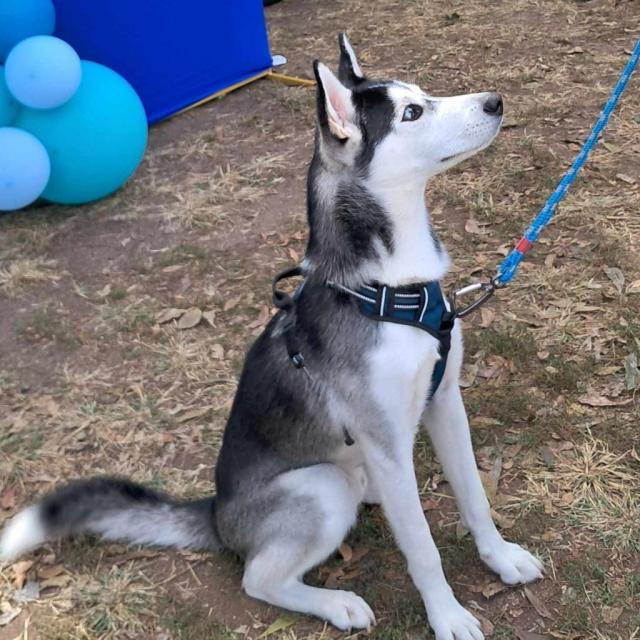siberian_husky_dog: (290, 26, 521, 254)
